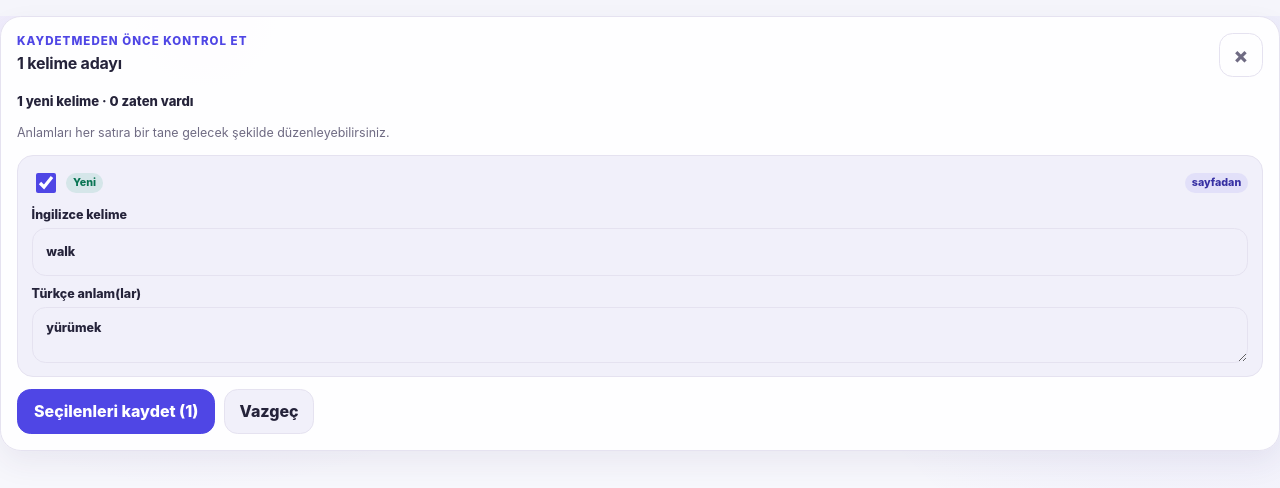
fotoğraf adayı onay ekranı › düzenleme sonrası oluşan tekrarı başarı özetinde bildirir
Replace the text in the field labelled "İngilizce kelime" with "run" at (640, 252), box left=32, top=228, right=1248, bottom=276
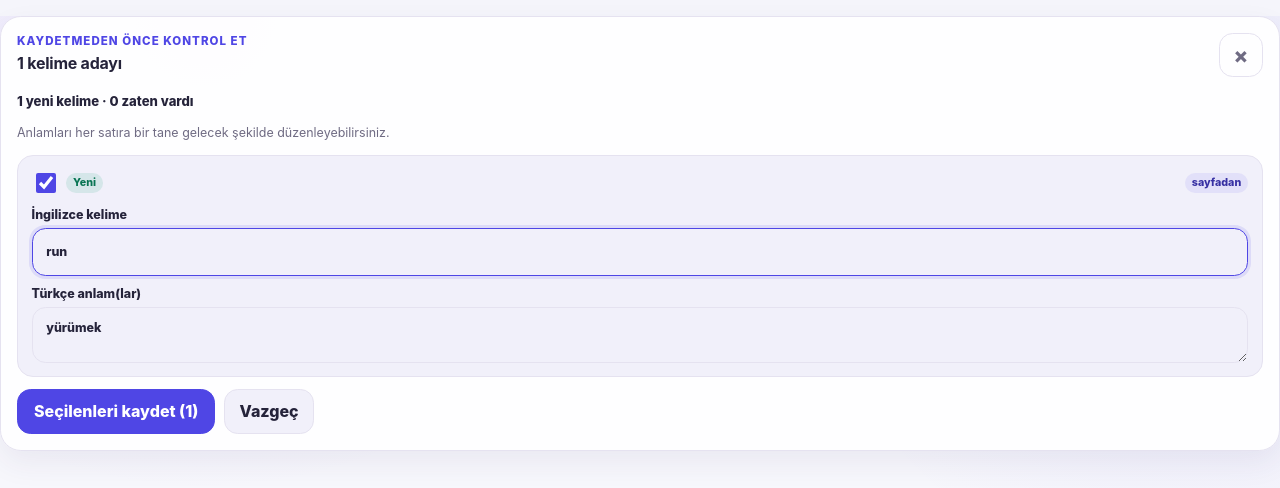
Click the button "Seçilenleri kaydet (1)".
click(116, 411)  # box left=17, top=389, right=215, bottom=434
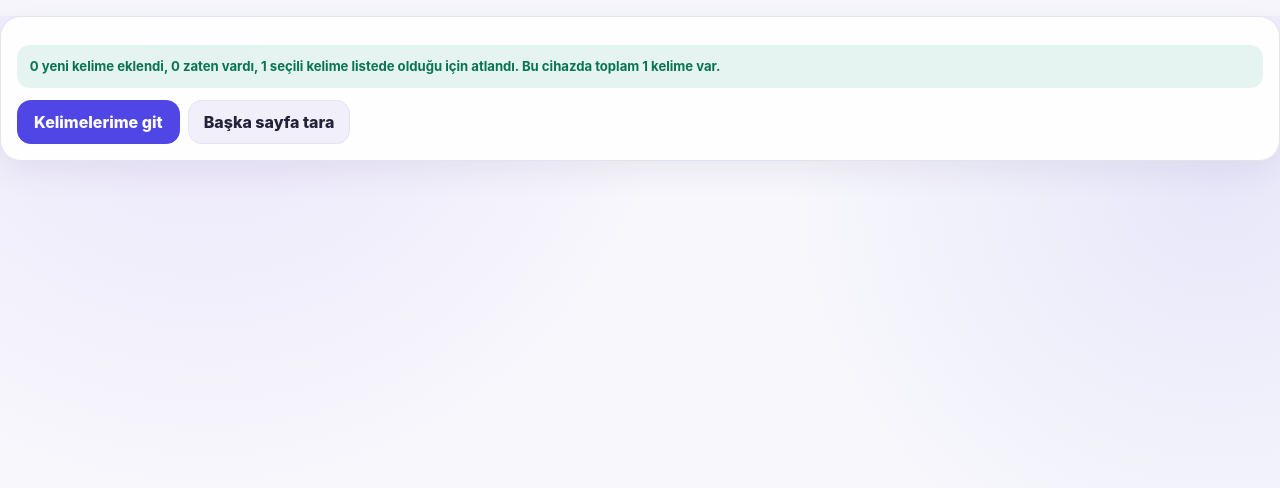
Now the text "1 seçili kelime listede olduğu için atlandı" is shown, box left=30, top=58, right=720, bottom=74
